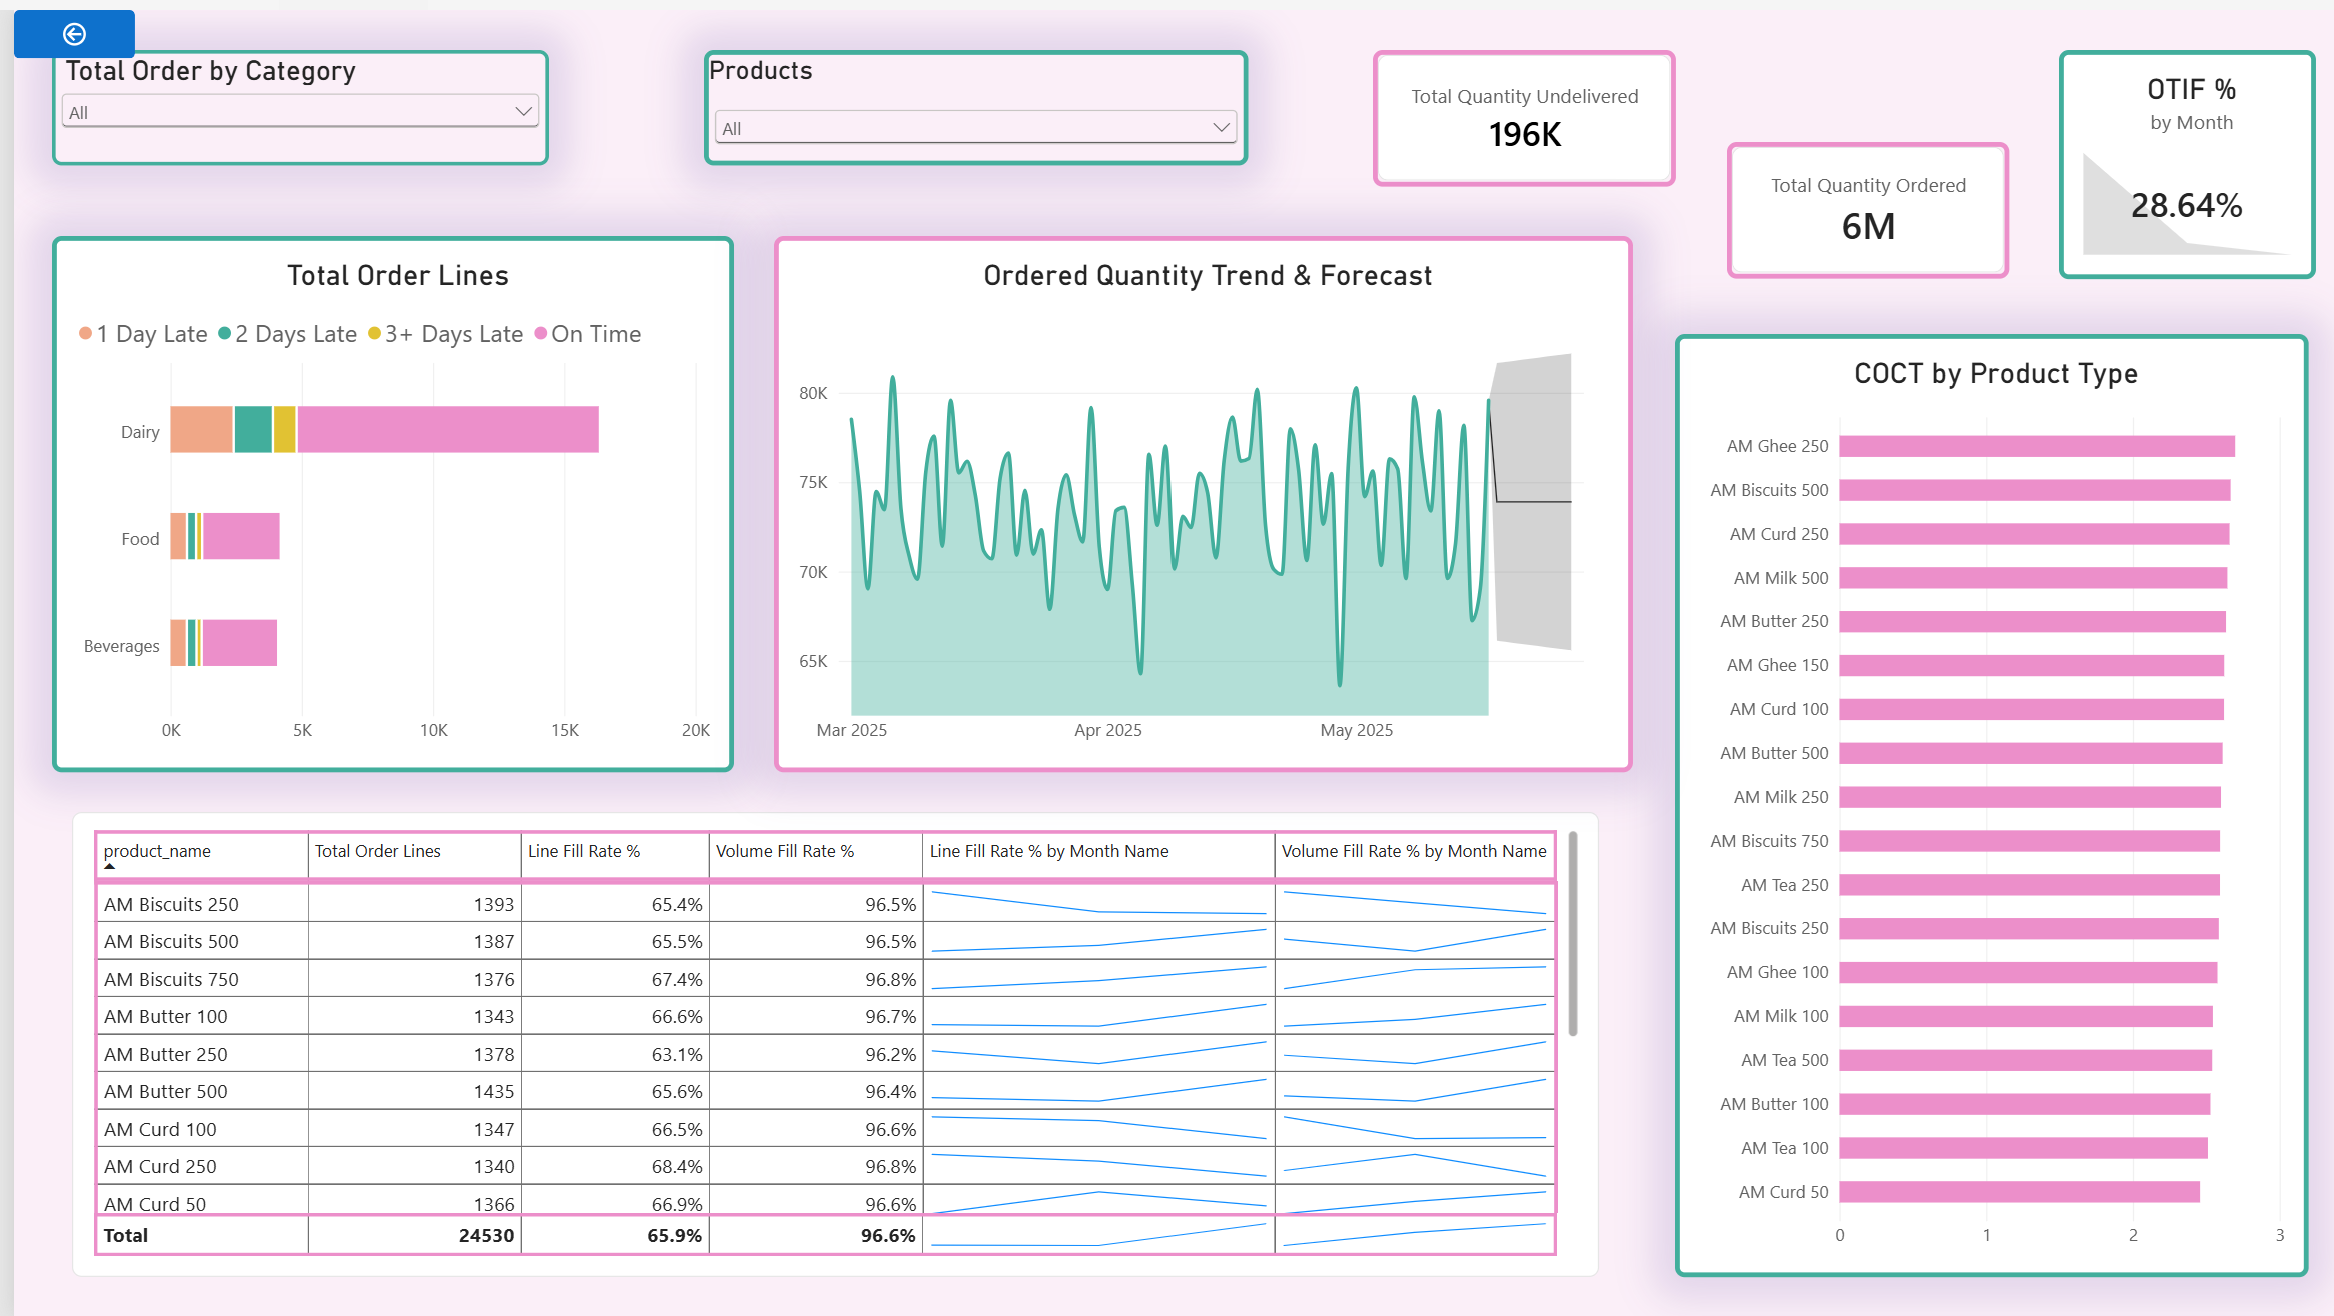

This screenshot's page, from the dashboard's own definition file:
{"tool":"powerbi","page":{"name":"Product Performance","canvas":[1920,1080],"ordinal":2},"visuals":[{"type":"kpi","fields":{"Indicator":["Key Measures.OTIF %"],"TrendLine":["dim_date.Month"]},"box":[1690.5,32.5,212.3,189.3],"z":0},{"type":"slicer","title":"Total Orders","fields":{"Values":["dim_products.category"]},"box":[30.6,32.5,411.2,95.6],"z":6000},{"type":"clusteredBarChart","title":"COCT by Product Type","fields":{"Category":["dim_products.product_name"],"Y":["Key Measures.COCT"]},"box":[1373.1,267.7,524,780.2],"z":14000},{"type":"cardVisual","fields":{"Data":["Key Measures.Total Quantity Ordered"]},"box":[1415.1,109,233.3,112.8],"z":14001},{"type":"cardVisual","fields":{"Data":["Key Measures.Total Quantity Undelivered"]},"box":[1122.5,32.5,250.5,112.8],"z":14002},{"type":"barChart","title":"Total Order Lines ","fields":{"Category":["dim_products.category"],"Series":["fact_order_line_final.Delay Bucket"],"Y":["Key Measures.Total Order Lines"]},"box":[30.6,187.4,564.1,443.7],"z":14003},{"type":"actionButton","box":[0,0,100,40],"z":14004},{"type":"tableEx","fields":{"Values":["dim_products.product_name","Key Measures.Total Order Lines","Key Measures.Line Fill Rate %","Key Measures.Volume Fill Rate %","SparklineData(Key Measures.Line Fill Rate %_[dim_date.Month Name])","SparklineData(Key Measures.Volume Fill Rate %_[dim_date.Month Name])"]},"box":[47.8,663.6,1262.2,384.4],"z":14005},{"type":"slicer","title":"Products","fields":{"Values":["dim_products.product_name"]},"box":[569.9,32.5,449.4,95.6],"z":14006},{"type":"lineChart","title":"Ordered Quantity Trend & Forecast","fields":{"Category":["dim_date.date"],"Y":["Key Measures.Total Quantity Ordered"]},"box":[629.2,187.4,709.5,443.7],"z":14007}]}

Visuals, with their boxes in screenshot pixels (x1, y1, x2, y2), scaled from the page's 1920x1080 canvas onto the 2334x1316 screenshot:
kpi - Key Measures.OTIF % x dim_date.Month: select_region(2055, 40, 2313, 270)
"Total Orders" slicer: select_region(37, 40, 537, 156)
"COCT by Product Type" clusteredBarChart: select_region(1669, 326, 2306, 1277)
cardVisual - Key Measures.Total Quantity Ordered: select_region(1720, 133, 2004, 270)
cardVisual - Key Measures.Total Quantity Undelivered: select_region(1365, 40, 1669, 177)
"Total Order Lines " barChart: select_region(37, 228, 723, 769)
actionButton: select_region(0, 0, 122, 49)
tableEx - dim_products.product_name x Key Measures.Total Order Lines: select_region(58, 809, 1592, 1277)
"Products" slicer: select_region(693, 40, 1239, 156)
"Ordered Quantity Trend & Forecast" lineChart: select_region(765, 228, 1627, 769)
